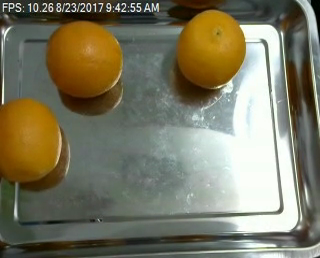Orange: (45, 19, 122, 99), (176, 8, 246, 89), (0, 97, 61, 182)
